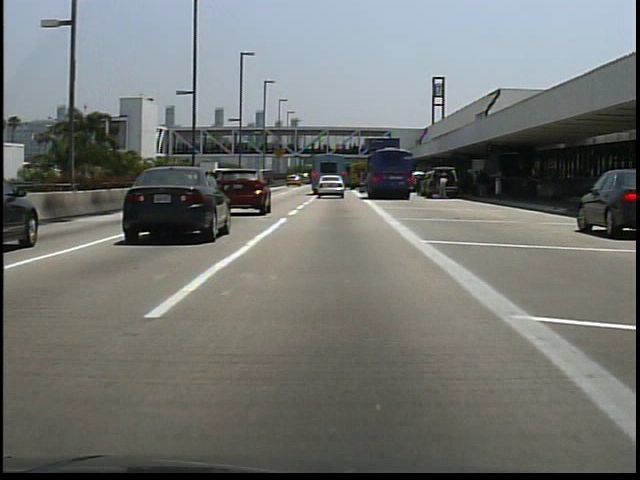person: (472, 166, 488, 203), (437, 174, 451, 203)
